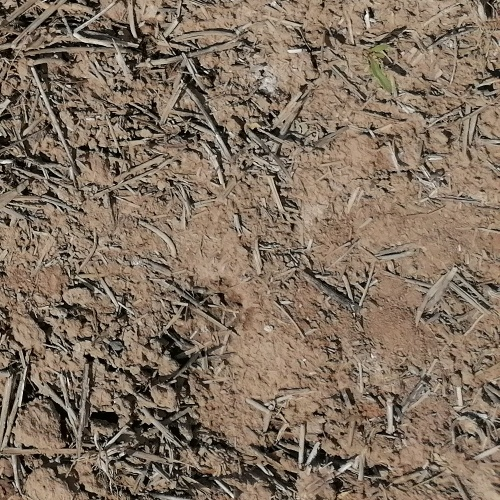beet: (364, 39, 397, 92)
